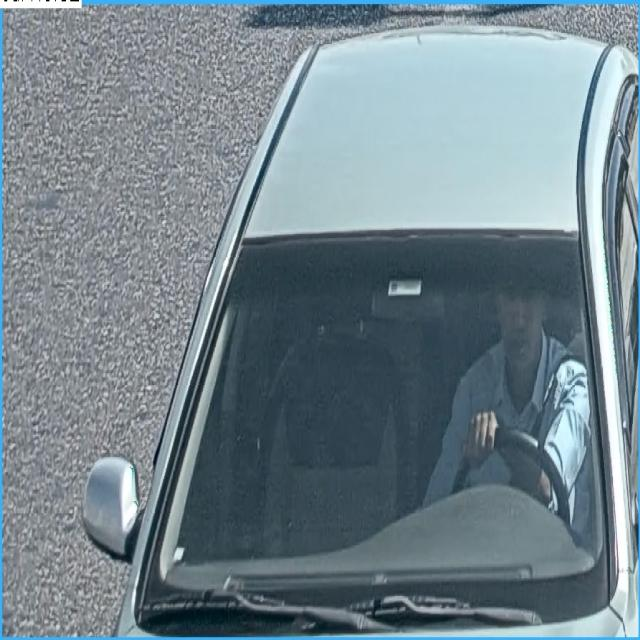windshield: (139, 234, 609, 623)
